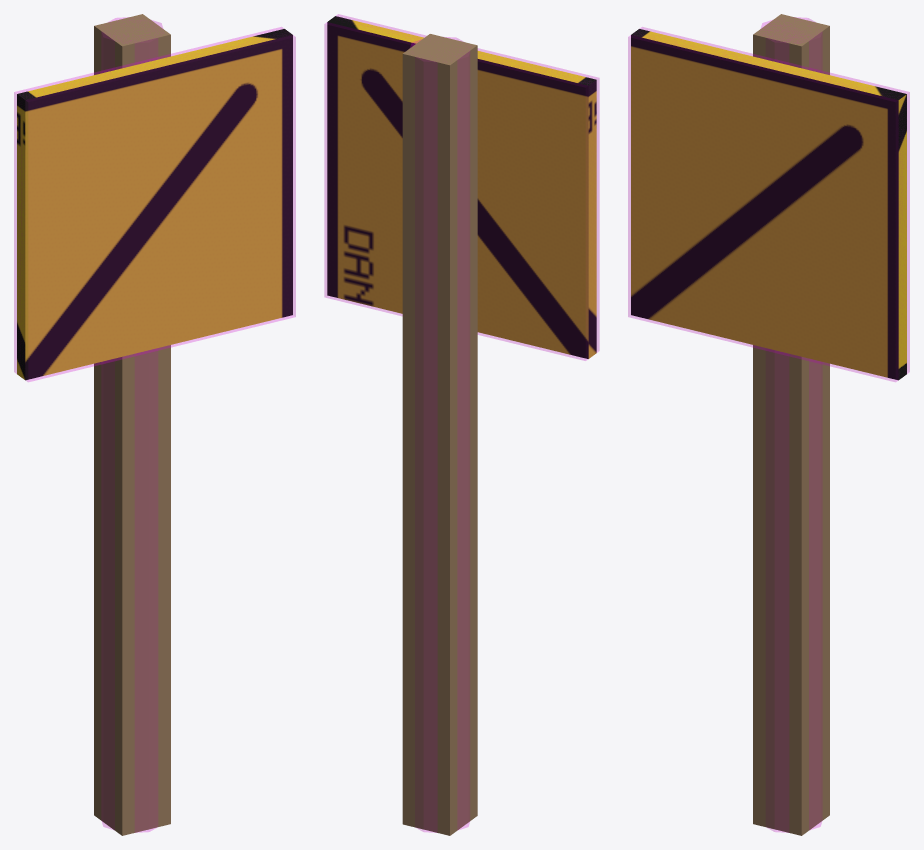
File: sign_danger_x.dae
3 views of the same model, side by side, from view 1: azimuth 30°, elevation 25°; view 2: azimuth 150°, elevation 25°; view 3: azimuth 330°, elevation 25° (orthographic). The views are drawn at different scales.
Visible parts, largest first — view 1: sign, Colmesh_sign-1, post, Colmesh_post-1; view 2: post, sign, Colmesh_sign-1, Colmesh_post-1; view 3: sign, Colmesh_sign-1, post, Colmesh_post-1.
Part boxes in pixels (<box>): sign: <box>17,29,292,380</box>; Colmesh_sign-1: <box>14,27,295,381</box>; post: <box>94,14,170,835</box>; Colmesh_post-1: <box>102,17,162,832</box>; post: <box>402,34,477,835</box>; sign: <box>327,16,596,358</box>; Colmesh_sign-1: <box>324,14,599,360</box>; Colmesh_post-1: <box>410,37,469,832</box>; sign: <box>631,29,906,380</box>; Colmesh_sign-1: <box>628,27,909,381</box>; post: <box>753,14,829,835</box>; Colmesh_post-1: <box>761,17,821,832</box>.
Size of the model in its own units: 0.55 by 0.165 by 1.55.
Materials: 3 (1 with a texture image).
